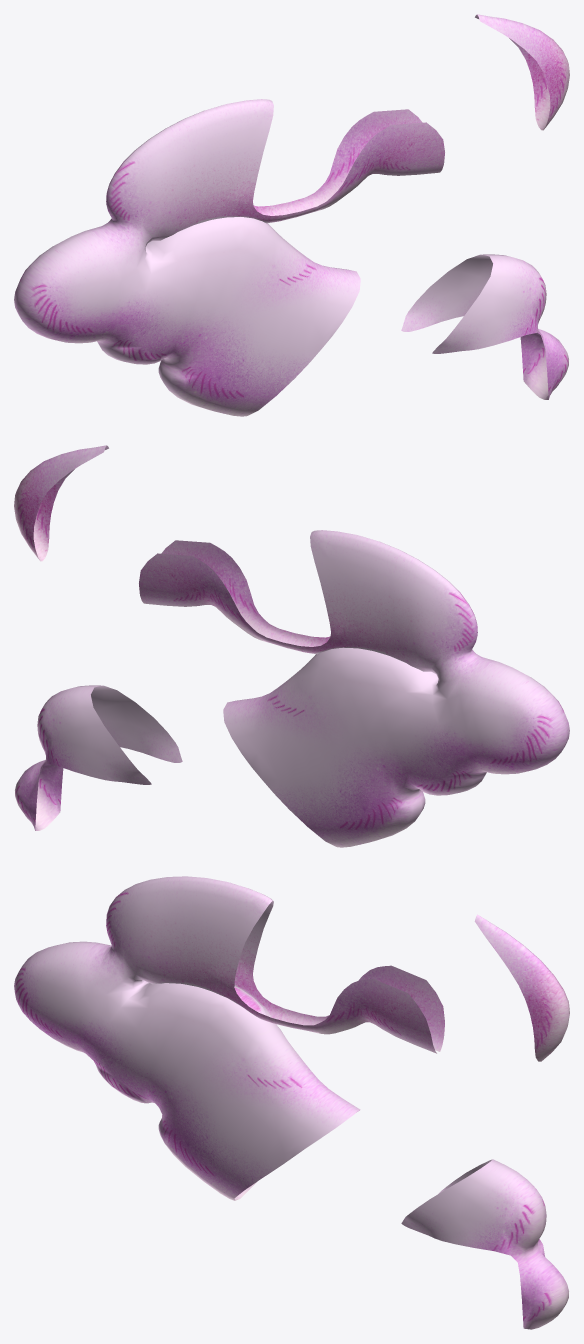
File: Cloud_C_nuki.obj
3 views of the same model, one above another, from view 1: azimuth 30°, elevation 25°; view 2: azimuth 150°, elevation 25°; view 3: azimuth 330°, elevation 25° (orthographic).
Parts seen in each view (by area): view 1: Cloud_C_nuki; view 2: Cloud_C_nuki; view 3: Cloud_C_nuki.
Part boxes in pixels (bbox=[...]): Cloud_C_nuki: bbox=[14, 14, 569, 416]; Cloud_C_nuki: bbox=[14, 445, 569, 847]; Cloud_C_nuki: bbox=[14, 876, 569, 1329].
Bounding box in the file's own units: 187 × 129 × 22.31.
1 material, 1 textured.
